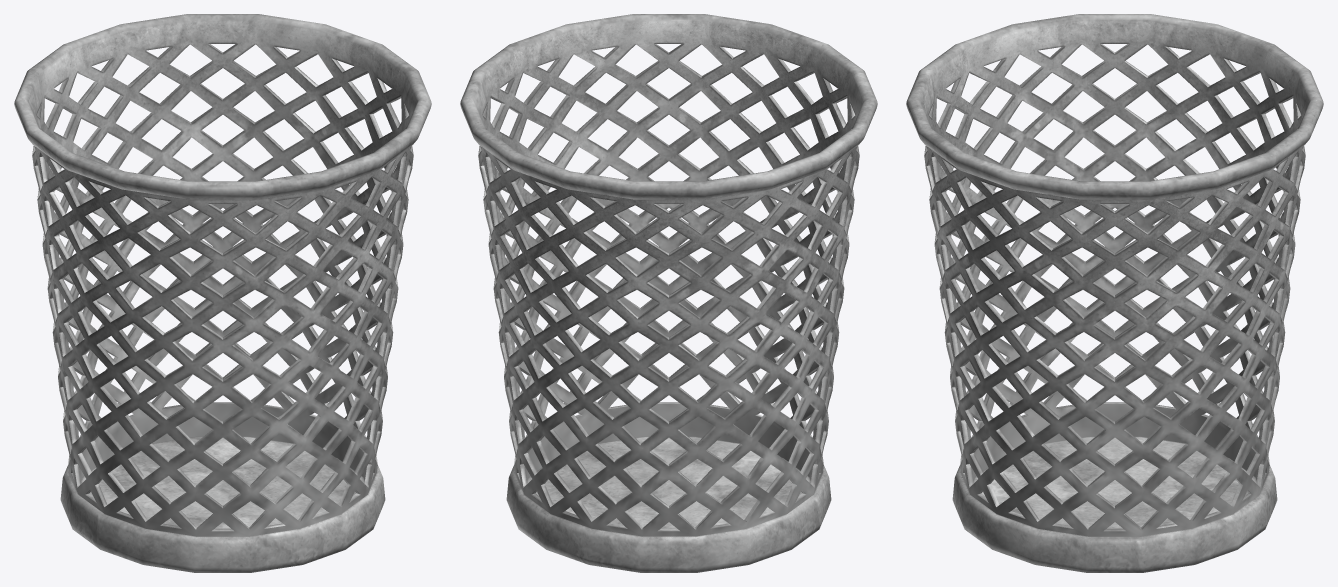
File: SM_steel_metal_bin.fbx
3 views of the same model, side by side, from view 1: azimuth 30°, elevation 25°; view 2: azimuth 150°, elevation 25°; view 3: azimuth 270°, elevation 25° (orthographic).
Visible parts, largest first — view 1: SM_bin; view 2: SM_bin; view 3: SM_bin.
Part boxes in pixels (x1,y1,x2,y2): SM_bin: [14, 14, 431, 572]; SM_bin: [460, 14, 877, 572]; SM_bin: [906, 14, 1323, 572].
Bounding box in the file's own units: 34.16 × 37.61 × 34.69.
Materials: 1 (1 with a texture image).
